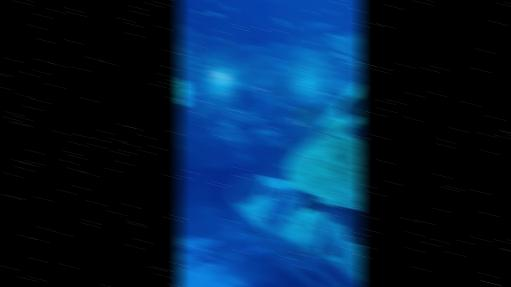Fish: (300, 192, 363, 243), (290, 104, 327, 127), (339, 89, 362, 120), (287, 243, 308, 259), (258, 184, 285, 196), (348, 122, 363, 141), (277, 142, 290, 155), (327, 244, 338, 255), (276, 17, 287, 27), (208, 11, 223, 17), (276, 90, 287, 98), (274, 115, 281, 123), (278, 164, 289, 169), (198, 33, 209, 38), (224, 7, 235, 12), (292, 107, 303, 112), (290, 23, 299, 29), (327, 9, 336, 14), (192, 19, 201, 24), (220, 39, 231, 43), (195, 11, 204, 15), (206, 0, 219, 2)
